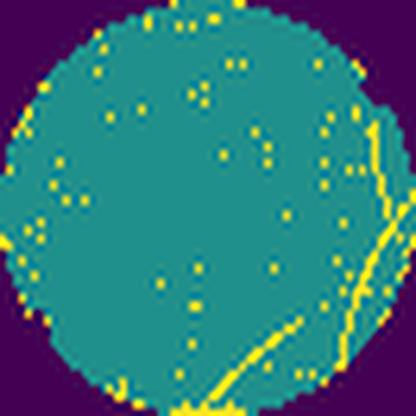Scratch: (334, 117, 416, 372), (195, 313, 313, 416)
